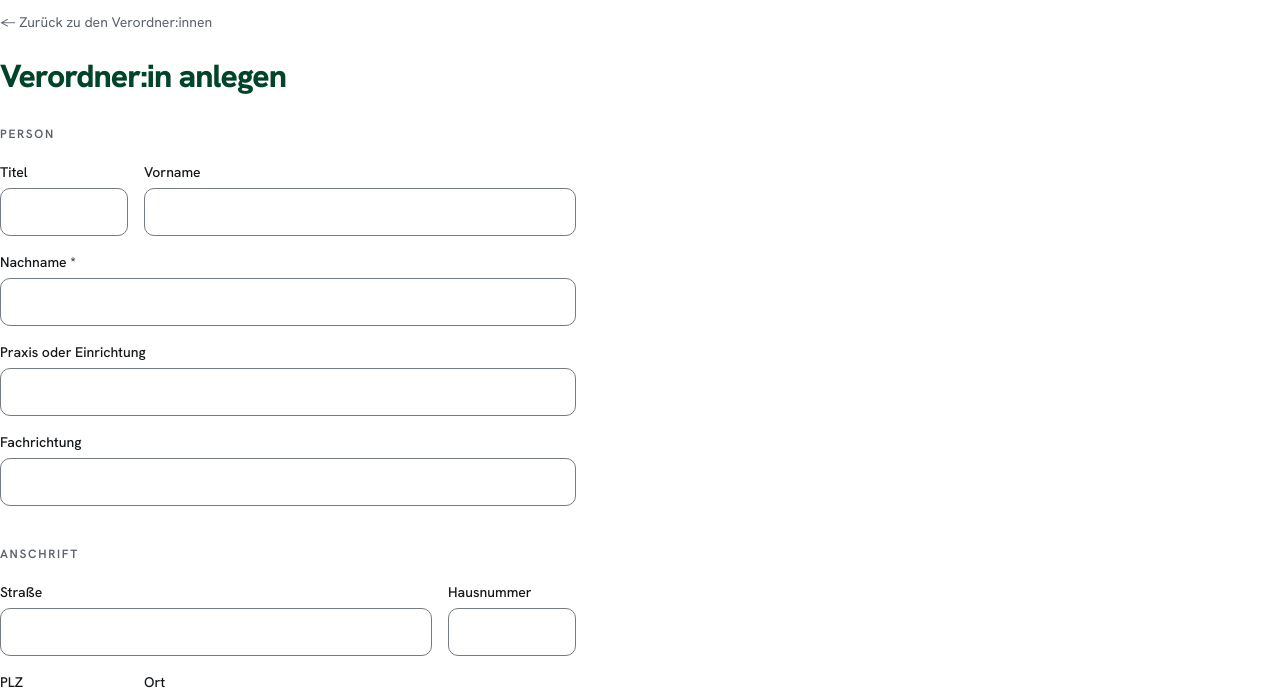
Test case: NewPrescriberPage › zeigt einen Speicherfehler als Fenster und laesst die Eingaben stehen
Type "Probst" into the field labelled "Nachname *". click: (288, 302)
box: [0,278,576,326]
(page scrolled)
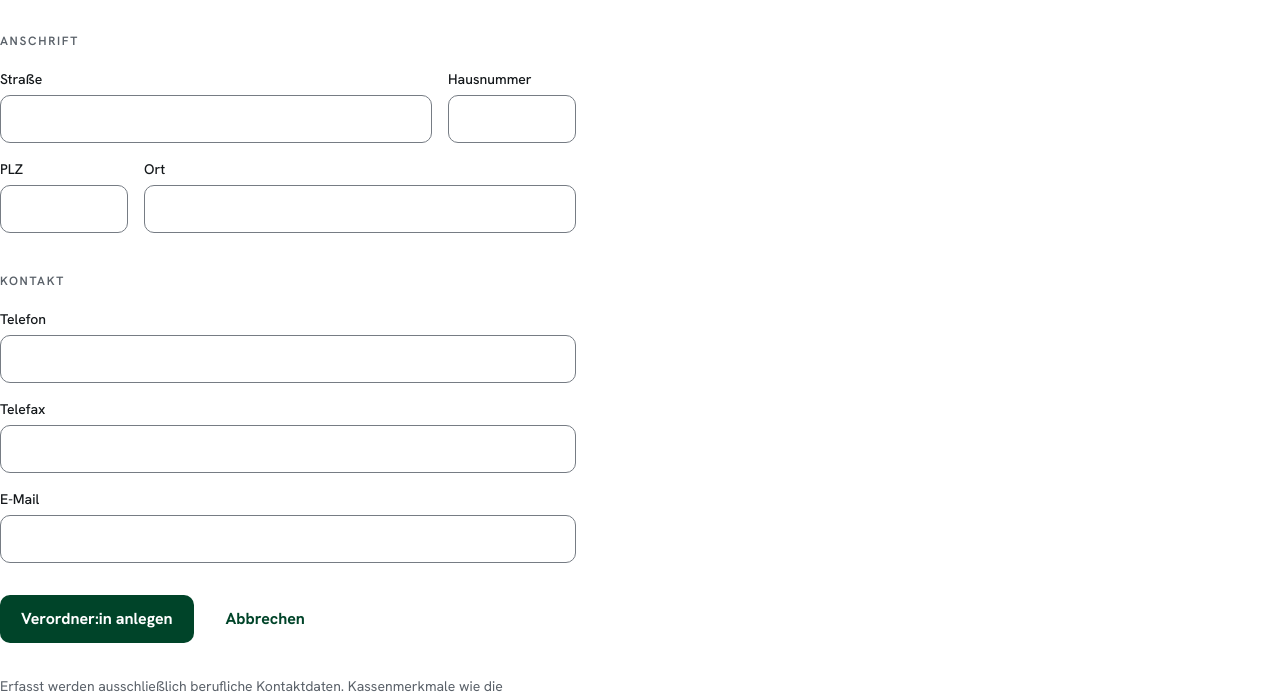
Click the button "Verordner:in anlegen". click: (97, 619)
box: [0,595,194,643]
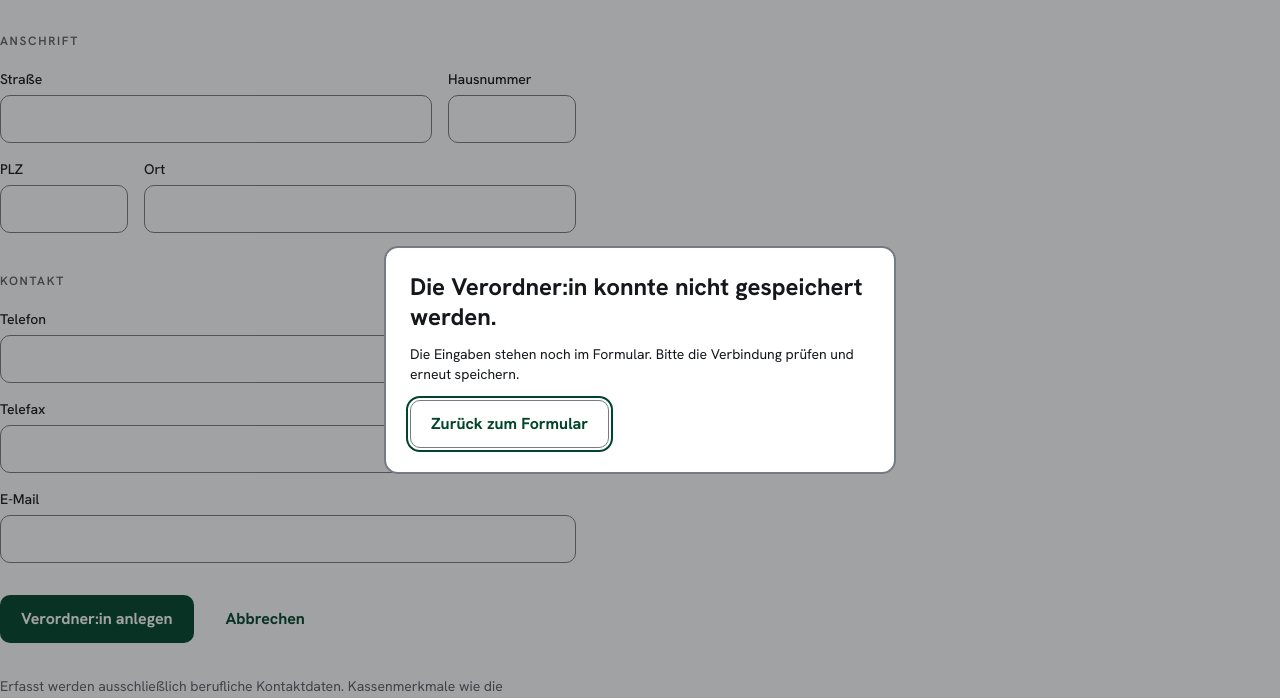
Expected: the dialog "Die Verordner:in konnte nicht gespeichert werden." does not show "angemeldet", [384,246,896,474]
Expected: the dialog "Die Verordner:in konnte nicht gespeichert werden." shows "Die Eingaben stehen noch im Formular. Bitte die Verbindung prüfen und erneut speichern.", [410,345,854,383]
Click the button "Zurück zum Formular". click: (510, 424)
box: [410,400,609,448]
(page scrolled)
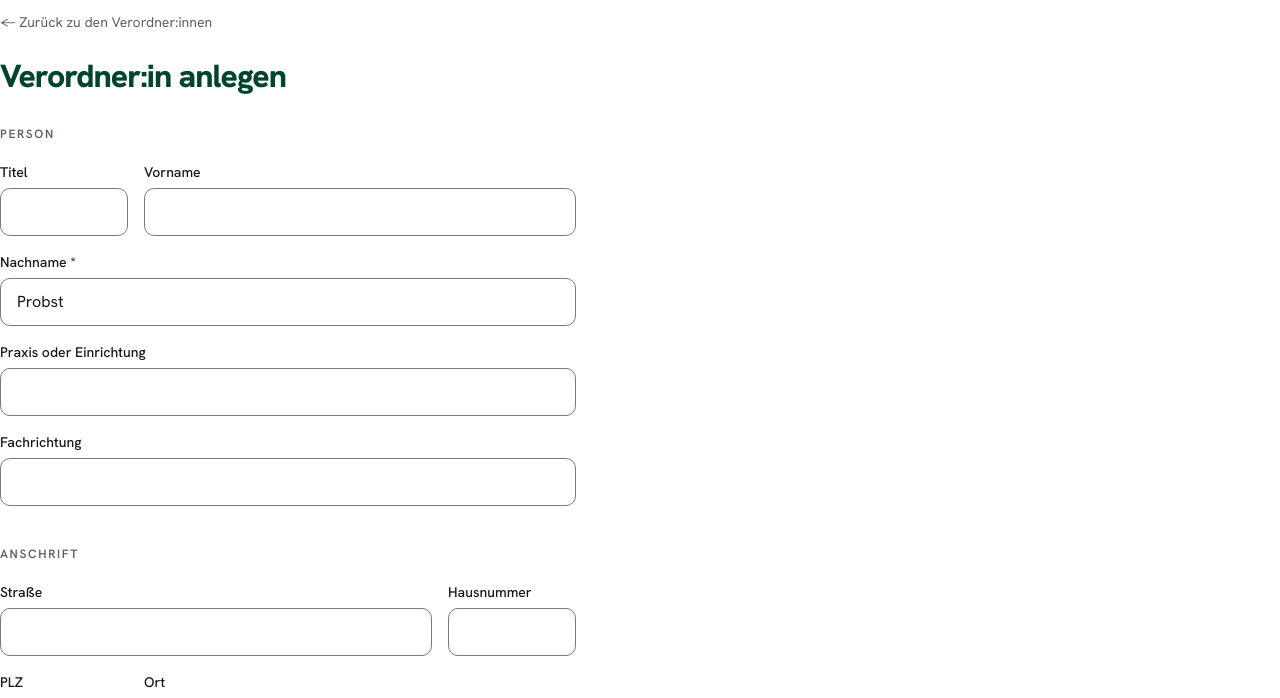
Expected: the dialog is gone
